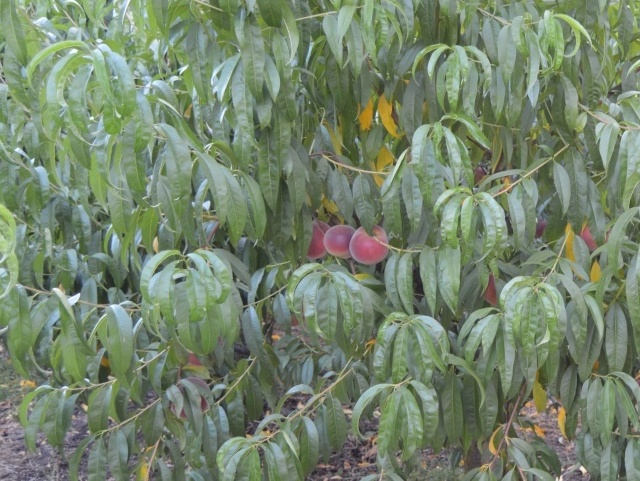peach: (168, 375, 215, 424), (345, 221, 390, 269), (318, 223, 360, 263), (303, 217, 337, 264), (471, 271, 505, 313), (574, 220, 606, 251)
